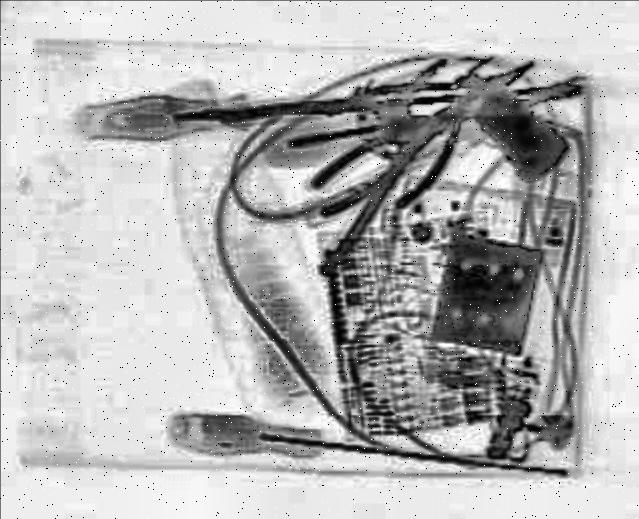Pliers: (302, 36, 570, 234), (276, 70, 590, 150)
